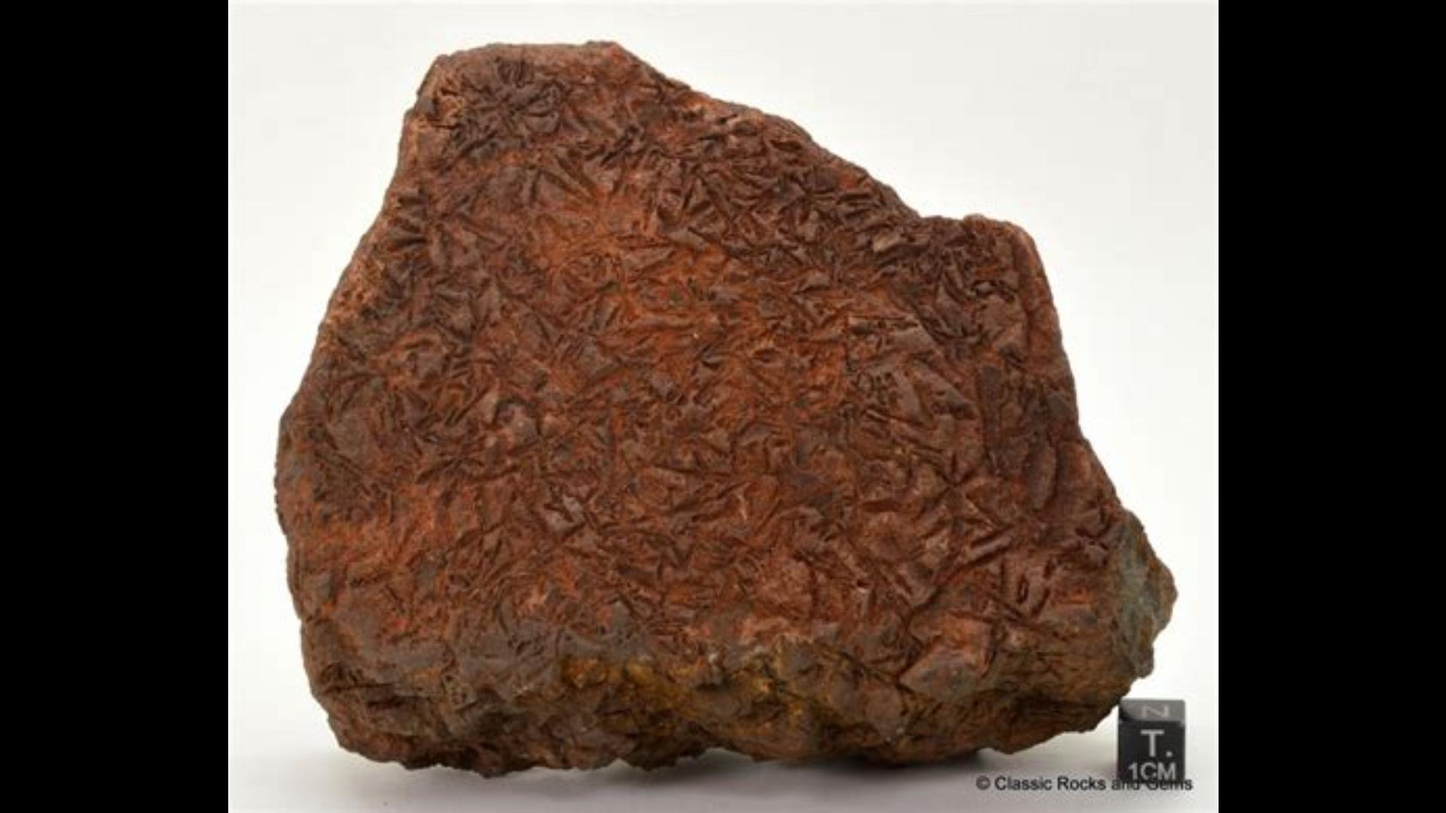rock: (278, 44, 1170, 771)
